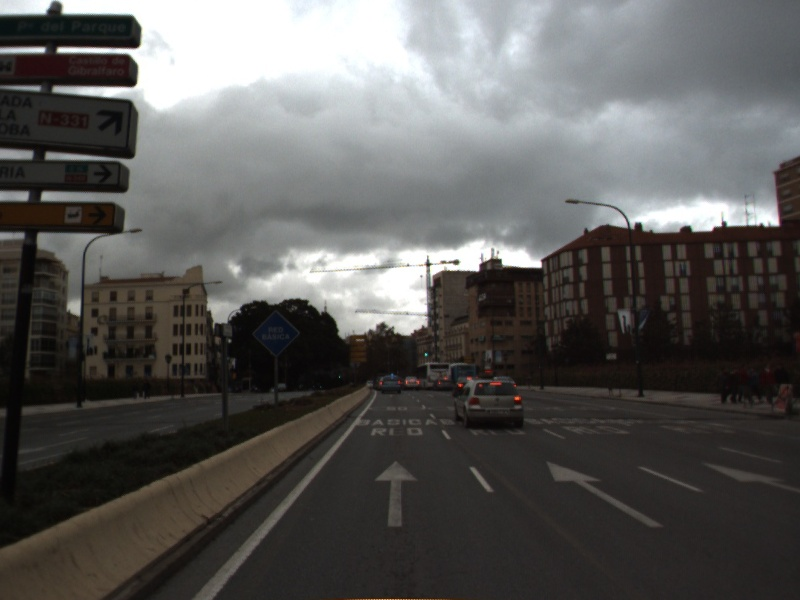STRAIGHT: (544, 459, 667, 530), (372, 458, 422, 529), (700, 461, 800, 493)
